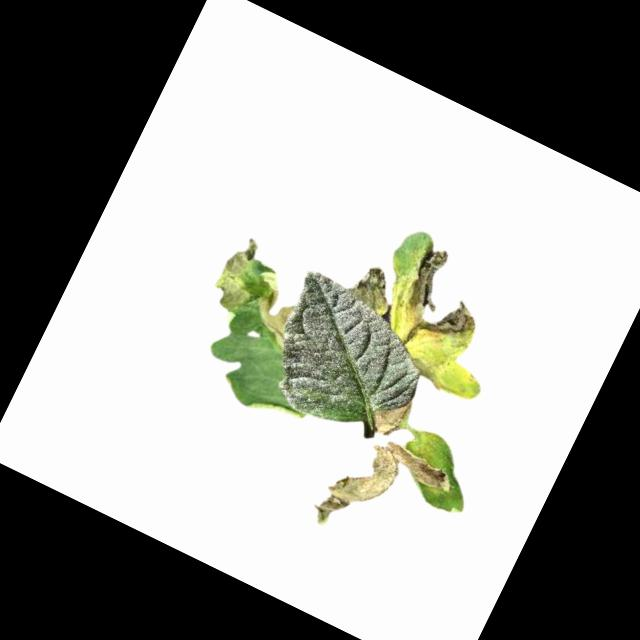Late_blight: (308, 421, 459, 572), (383, 236, 508, 360), (200, 230, 280, 331), (240, 270, 310, 350), (343, 256, 403, 316), (404, 348, 466, 398), (366, 388, 413, 441)
